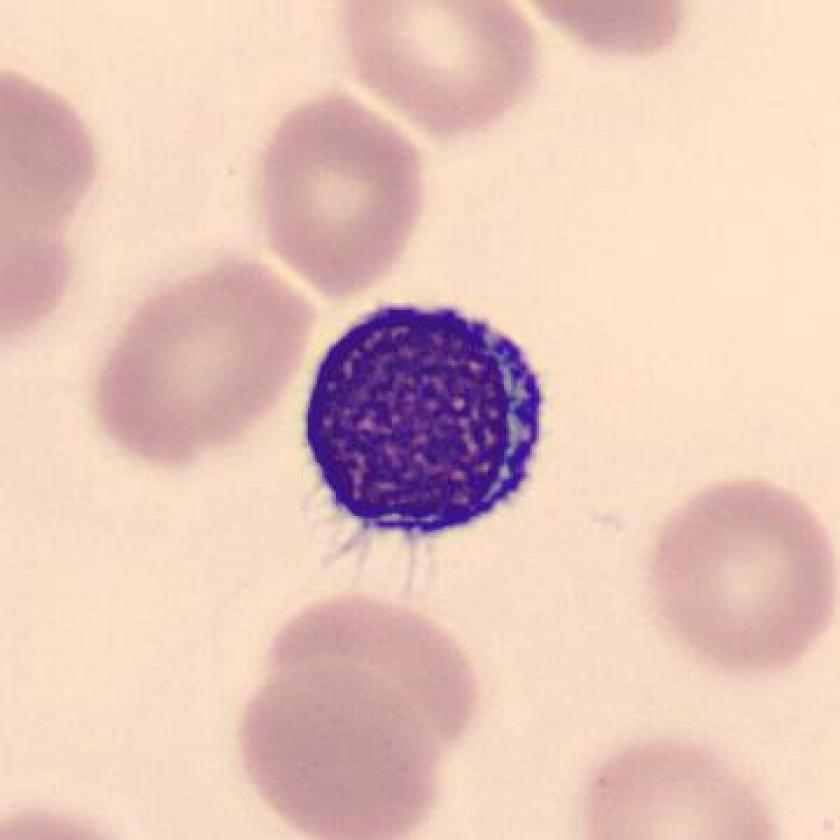lymphocyte: (284, 288, 564, 552)
